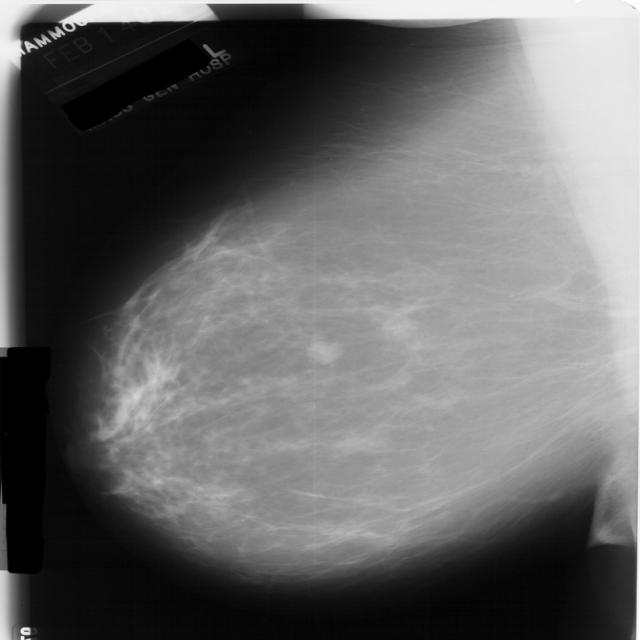tumour: (304, 338, 342, 363)
